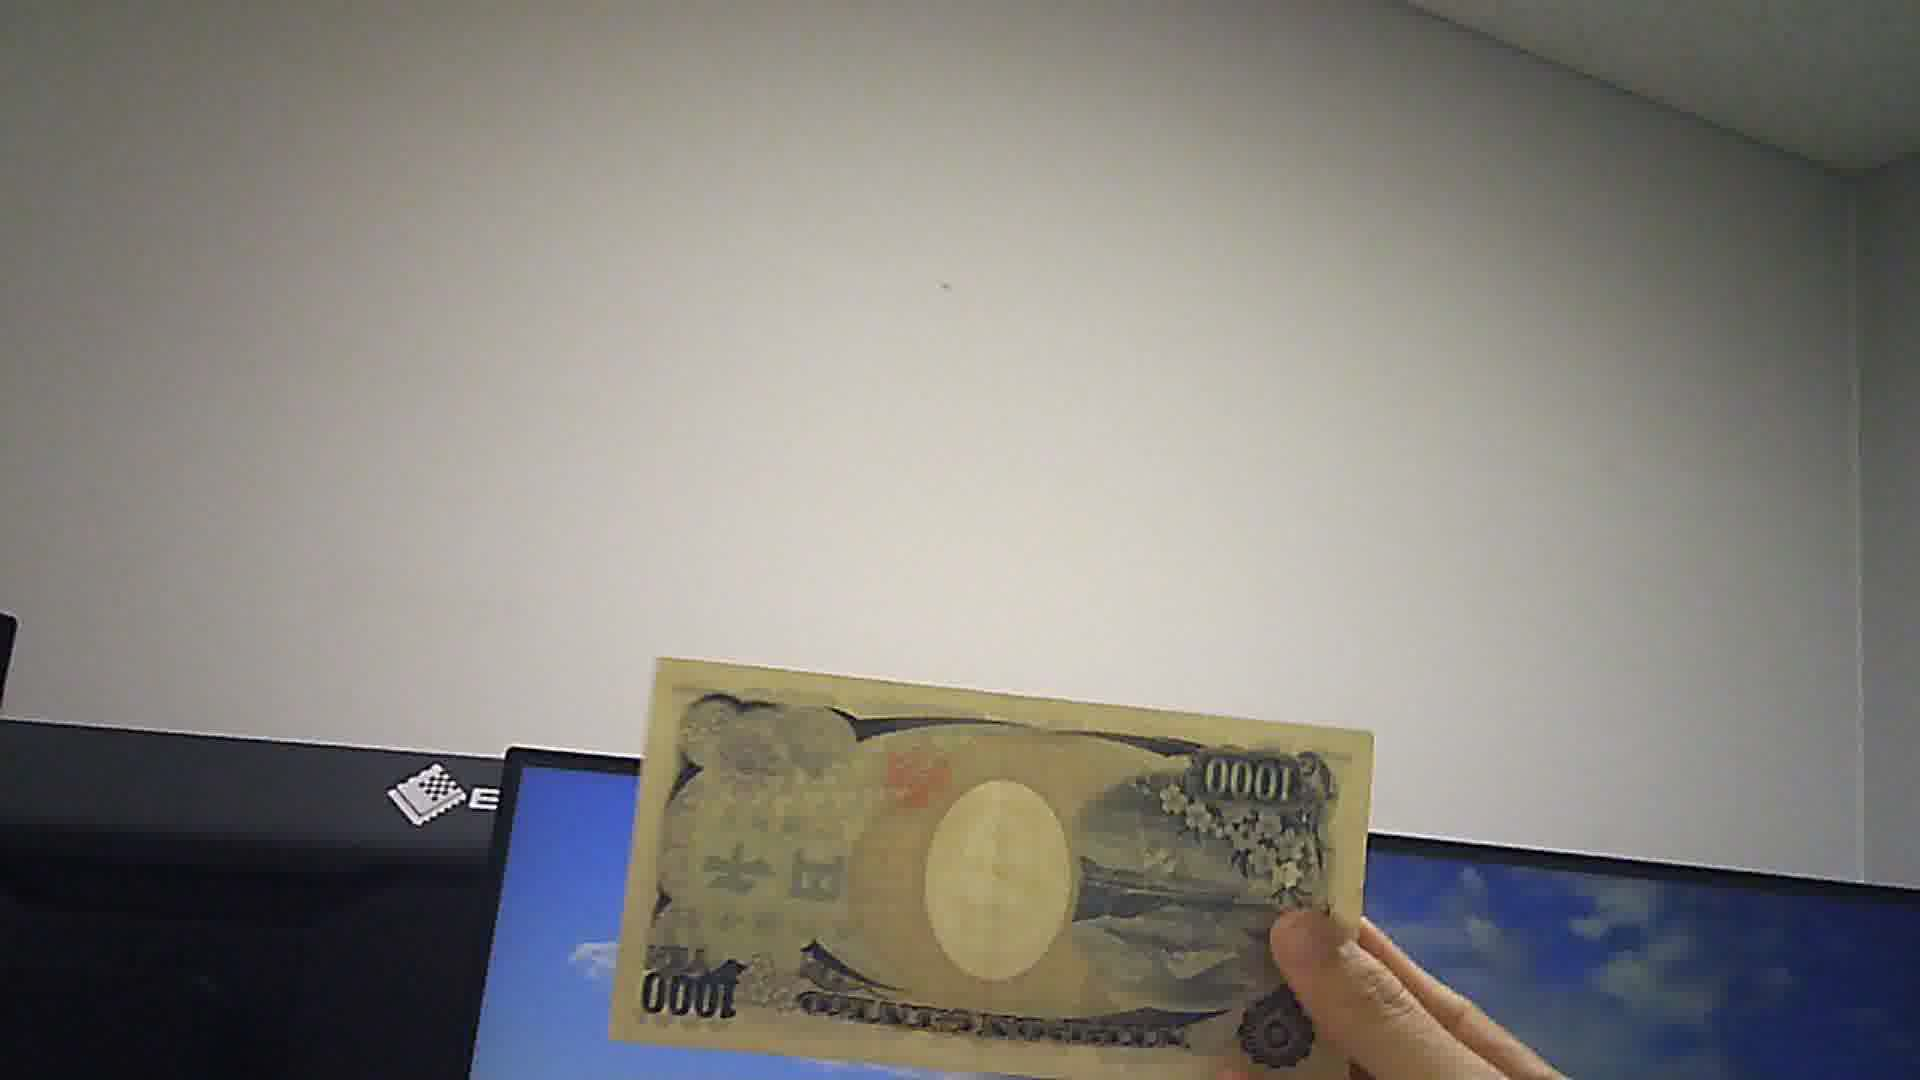1,000 Yen: (600, 637, 1391, 1063)
